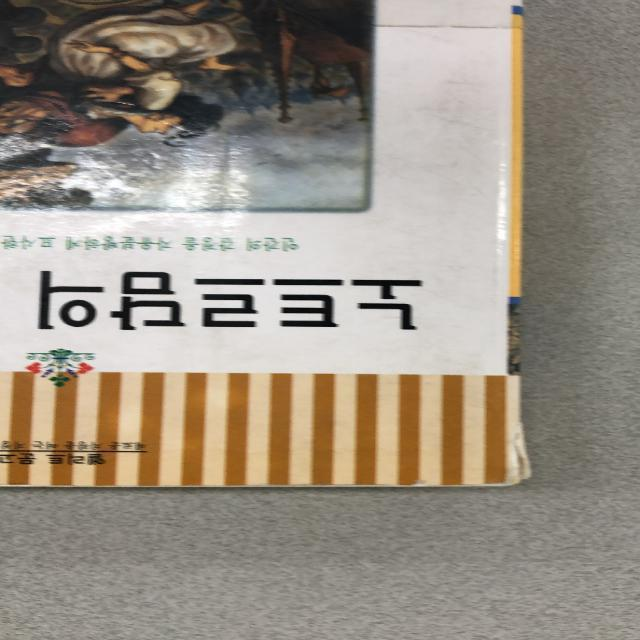Ripped: (493, 421, 540, 491)
Wornout: (0, 470, 84, 491), (393, 469, 451, 492)
